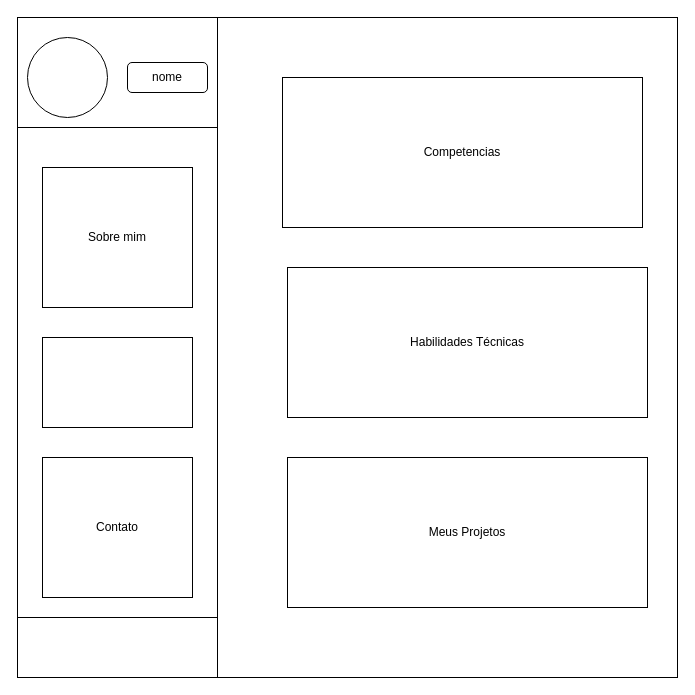
Image size: 695x695. Some labels were removed from this diagram. The centre of each missing label's shape, as x and y in pixels:
"Formação academica" belongs at (x=117, y=382).
"Foto" belongs at (x=67, y=77).
"Redes Sociais" belongs at (x=117, y=647).
